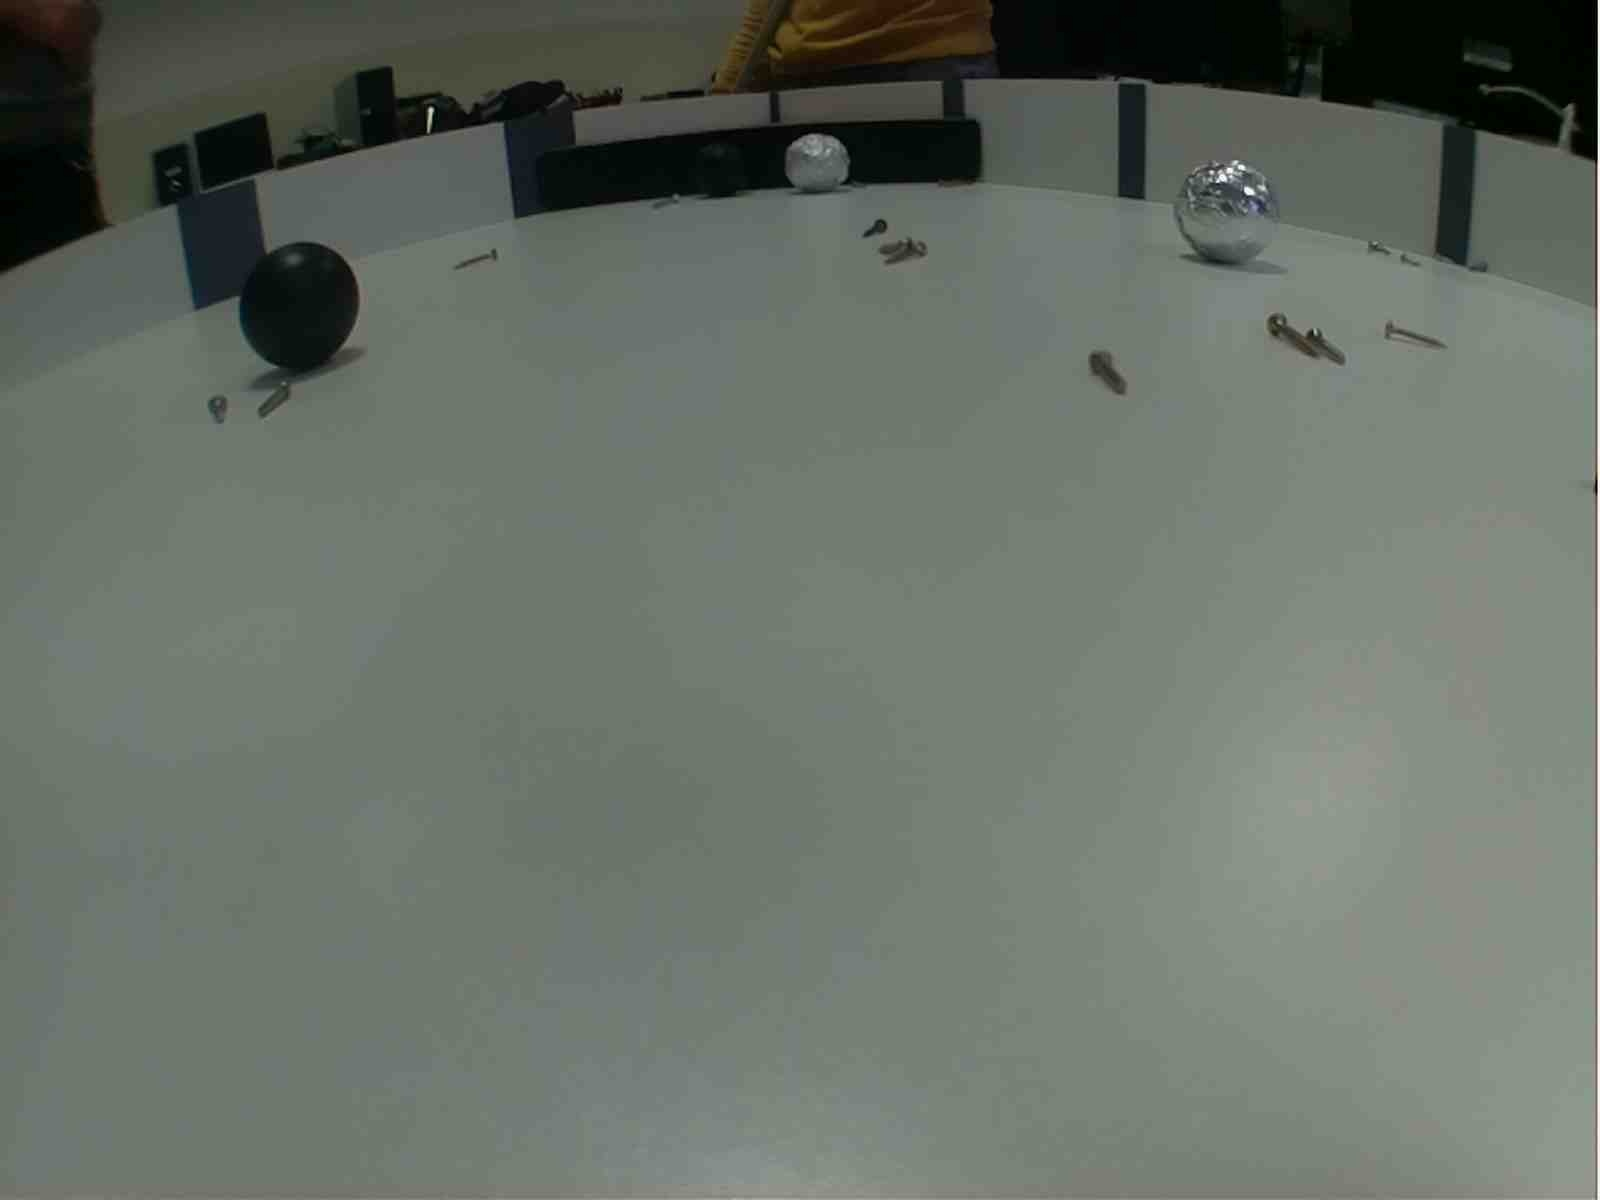bianca: (1174, 156, 1283, 266), (785, 134, 850, 195)
nera: (236, 238, 365, 373)
